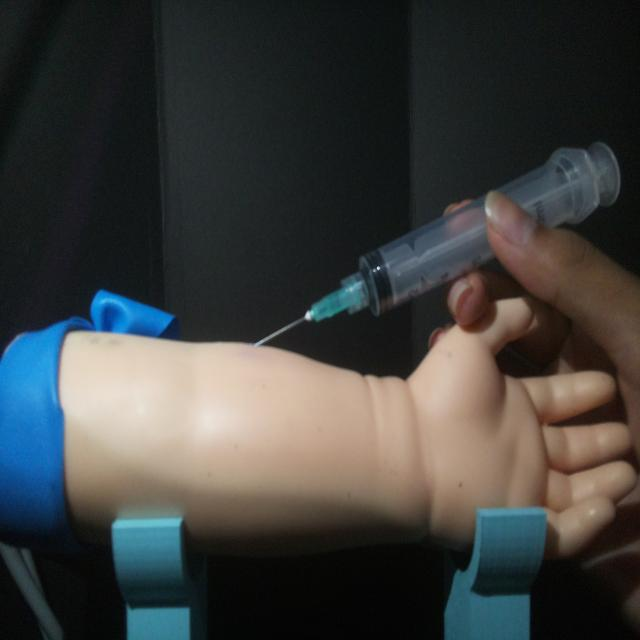25deg: (249, 135, 623, 351)
